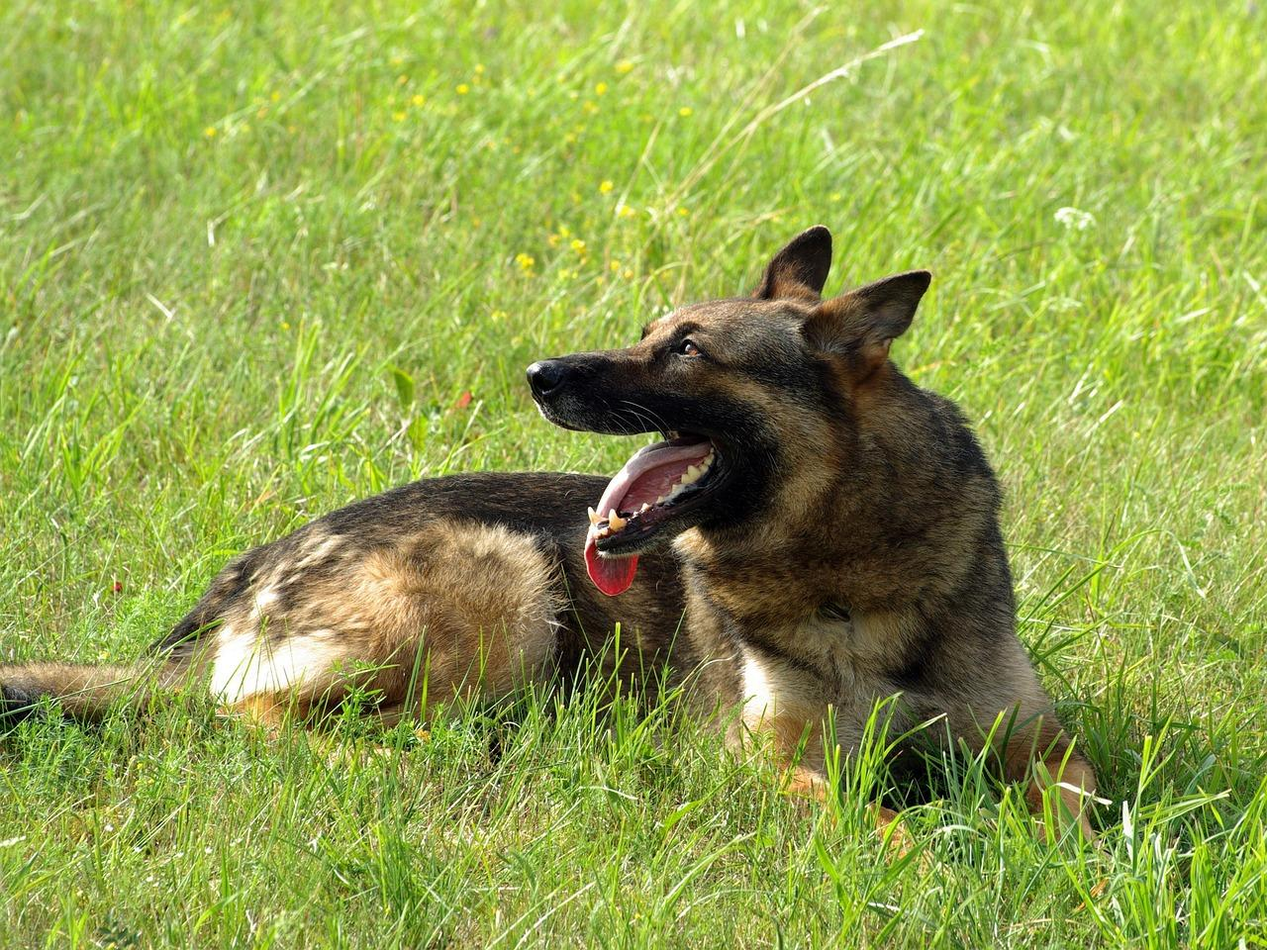german_shepherd: (544, 248, 912, 583)
